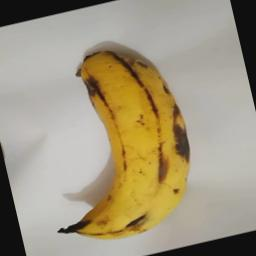Banana Unripe: (16, 32, 207, 252)
